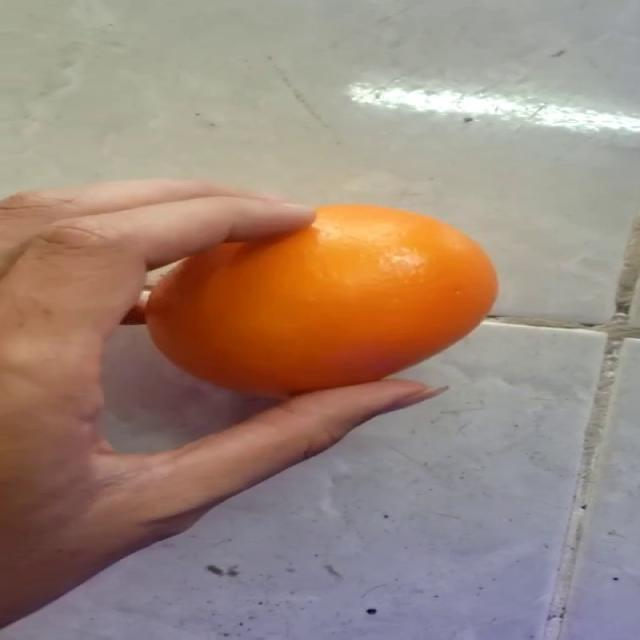Orange: (143, 201, 499, 398)
